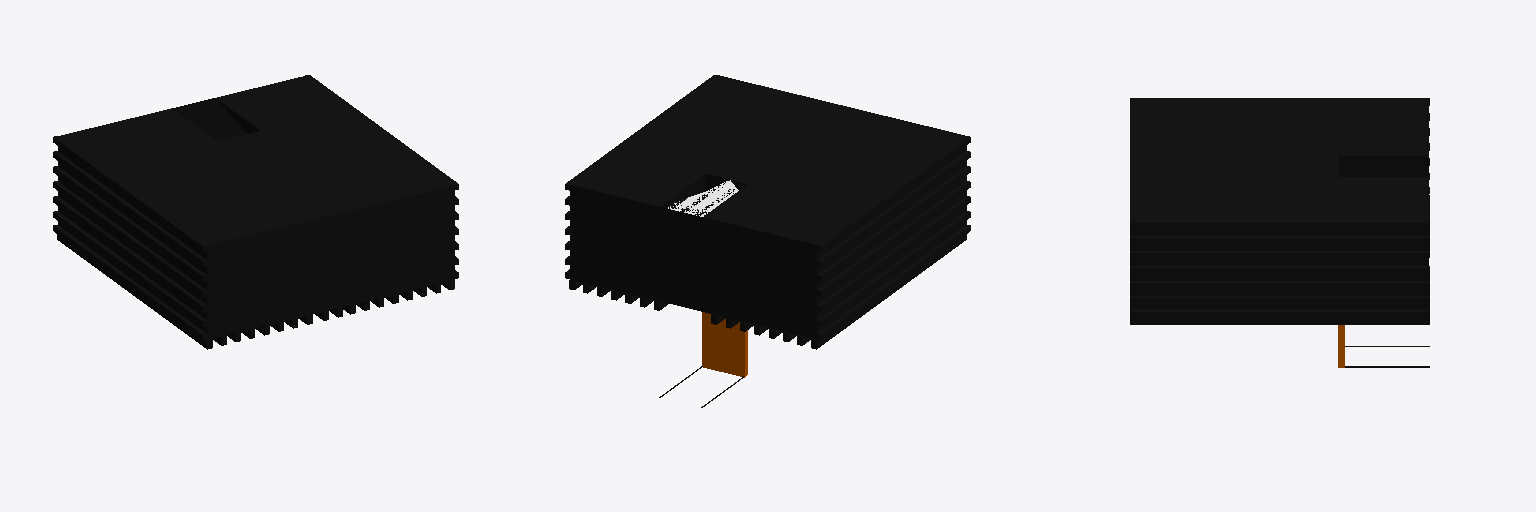
Rendered from huntWDoor.obj.
The picture shows the model from 3 angles: view 1: azimuth 30°, elevation 25°; view 2: azimuth 150°, elevation 25°; view 3: azimuth 270°, elevation 25°; orthographic projection.
Parts seen in each view (by area): view 1: object_1, object_46, object_27, object_38, object_22, object_23, object_20, object_21, object_25, object_26, object_24, object_10 (+1 smaller); view 2: object_1, object_38, object_27, object_15, object_22, object_23, object_20, object_21, object_25, object_26, object_24, object_11 (+2 smaller); view 3: object_1, object_12, object_34, object_35, object_28, object_29, object_30, object_31, object_32, object_33, object_27, object_26.
Boxes of the visible parts, x1,y1,x2,y2 form: object_1: [58, 76, 453, 244]; object_46: [207, 185, 454, 339]; object_27: [58, 146, 206, 333]; object_38: [173, 98, 246, 140]; object_22: [53, 196, 206, 311]; object_23: [53, 181, 206, 296]; object_20: [53, 225, 206, 340]; object_21: [53, 211, 206, 326]; object_25: [53, 151, 206, 266]; object_26: [53, 136, 206, 251]; object_24: [53, 166, 206, 281]; object_10: [57, 234, 212, 349]; object_1: [570, 75, 965, 244]; object_38: [570, 185, 816, 339]; object_27: [817, 146, 966, 333]; object_15: [702, 312, 747, 377]; object_22: [817, 196, 970, 311]; object_23: [817, 181, 970, 296]; object_20: [817, 225, 970, 340]; object_21: [817, 211, 970, 326]; object_25: [817, 151, 970, 266]; object_26: [817, 136, 970, 251]; object_24: [817, 166, 970, 281]; object_11: [668, 180, 738, 216]; object_1: [1130, 100, 1428, 220]; object_12: [1130, 228, 1428, 308]; object_34: [1130, 309, 1429, 316]; object_35: [1130, 317, 1429, 324]; object_28: [1130, 221, 1429, 227]; object_29: [1130, 236, 1429, 242]; object_30: [1130, 251, 1429, 257]; object_31: [1130, 266, 1429, 272]; object_32: [1130, 281, 1429, 287]; object_33: [1130, 296, 1429, 302]; object_27: [1338, 156, 1428, 175]; object_26: [1130, 98, 1429, 105].
Size of the model in its own units: 7.16 by 5.1 by 7.26.